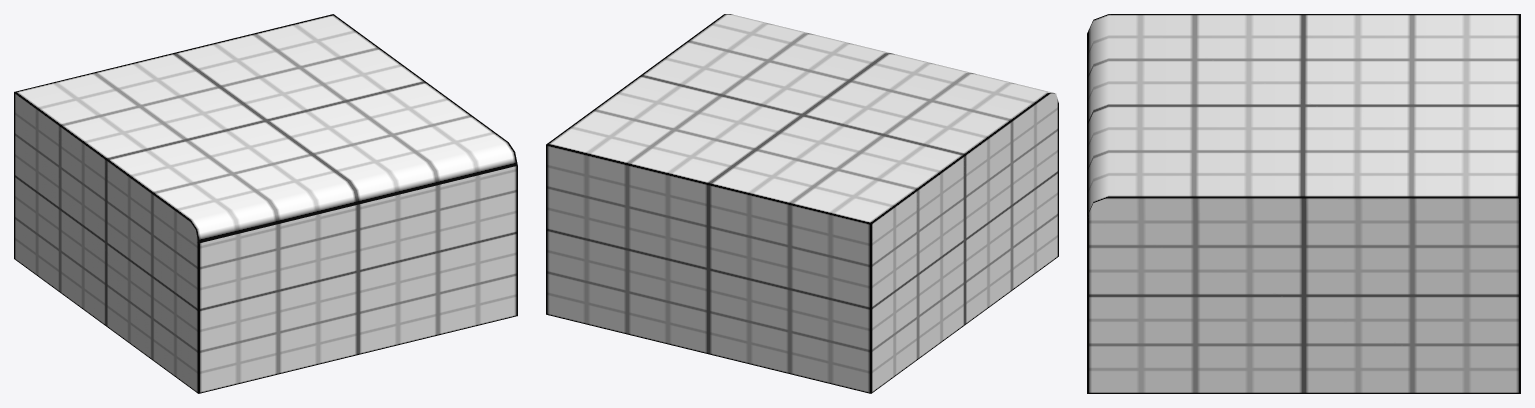
3 views of the same model, side by side, from view 1: azimuth 30°, elevation 25°; view 2: azimuth 150°, elevation 25°; view 3: azimuth 270°, elevation 25° (orthographic). The views are drawn at different scales.
Visible parts, largest first — view 1: Yplus, Zplus, Xminus; view 2: Yplus, Zminus, Xminus; view 3: Xplus, Yplus.
Boxes of the visible parts, bbox=[...] form: Yplus: bbox=[14, 14, 517, 243]; Zplus: bbox=[198, 165, 517, 393]; Xminus: bbox=[14, 92, 198, 393]; Yplus: bbox=[546, 14, 1054, 223]; Zminus: bbox=[546, 144, 871, 393]; Xminus: bbox=[871, 93, 1058, 393]; Xplus: bbox=[1087, 197, 1520, 393]; Yplus: bbox=[1087, 14, 1520, 216].
Bounding box in the file's own units: 100 × 50 × 100.
